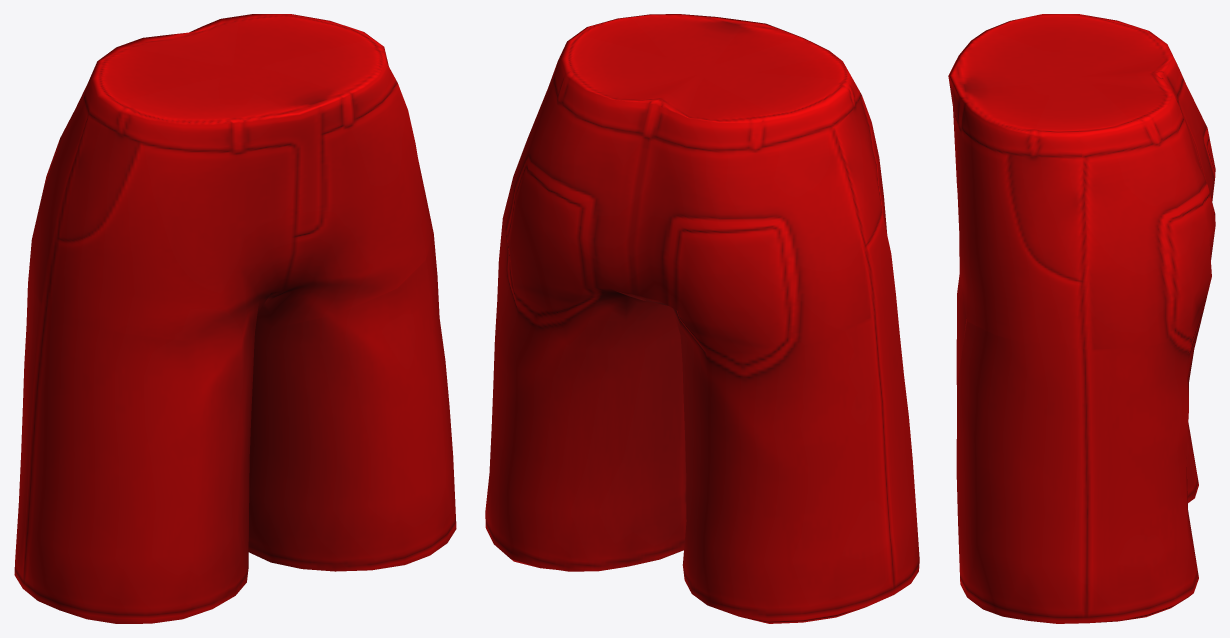
File: Bottom_BigShorts.obj
3 views of the same model, side by side, from view 1: azimuth 30°, elevation 25°; view 2: azimuth 150°, elevation 25°; view 3: azimuth 270°, elevation 25° (orthographic). The views are drawn at different scales.
Visible parts, largest first — view 1: Bottom_BigShorts_0; view 2: Bottom_BigShorts_0; view 3: Bottom_BigShorts_0.
Part boxes in pixels (x1,y1,x2,y2): Bottom_BigShorts_0: (14, 14, 456, 623); Bottom_BigShorts_0: (485, 14, 919, 623); Bottom_BigShorts_0: (948, 14, 1215, 623).
Bounding box in the file's own units: 0.4189 × 0.478 × 0.2494.
Materials: 1 (1 with a texture image).
